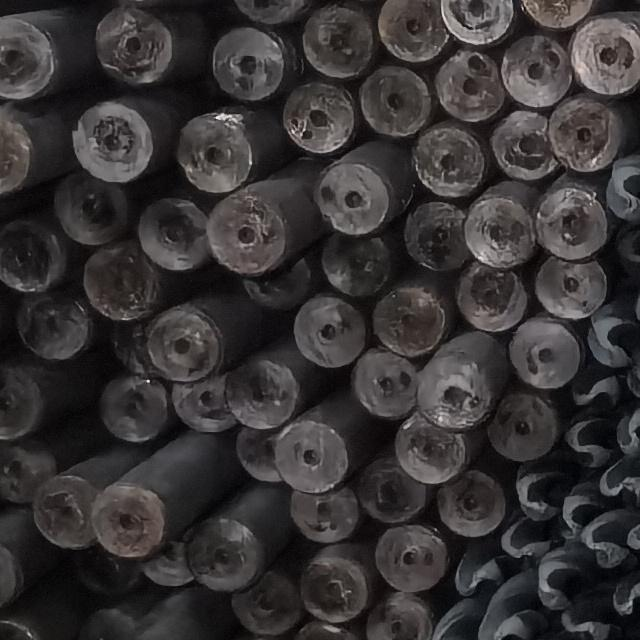tool: (313, 141, 415, 238), (175, 102, 284, 190), (416, 328, 510, 422), (207, 185, 292, 279), (547, 94, 637, 176), (73, 101, 154, 180), (84, 240, 163, 320), (465, 180, 537, 266), (533, 176, 606, 260), (94, 11, 171, 89), (301, 2, 377, 80), (476, 391, 558, 462), (0, 206, 66, 294), (571, 10, 640, 94), (372, 282, 448, 358), (415, 119, 489, 195), (435, 456, 507, 534), (393, 409, 468, 483), (284, 79, 360, 152), (58, 169, 133, 242), (137, 195, 210, 269), (294, 295, 367, 368), (454, 258, 527, 330), (358, 67, 432, 138), (510, 314, 582, 386), (0, 14, 57, 104), (356, 452, 427, 524), (20, 290, 88, 365), (232, 569, 304, 639), (433, 46, 502, 118), (213, 31, 282, 102), (500, 34, 568, 106), (189, 517, 261, 585), (34, 472, 98, 548), (349, 345, 417, 416), (322, 228, 389, 300), (377, 526, 448, 592), (490, 109, 555, 180), (401, 198, 465, 270), (104, 378, 171, 446), (282, 428, 353, 490), (287, 484, 358, 544), (153, 314, 217, 380), (228, 363, 294, 425), (539, 257, 609, 315), (173, 372, 238, 434), (378, 0, 444, 61), (302, 556, 366, 618), (98, 490, 160, 552), (0, 436, 56, 500), (235, 423, 295, 481), (359, 592, 429, 640), (0, 366, 44, 441), (246, 254, 306, 308), (445, 0, 515, 45), (109, 321, 163, 374), (0, 111, 35, 190), (138, 540, 192, 588), (220, 0, 336, 22), (0, 507, 24, 611), (520, 0, 604, 28), (79, 605, 133, 640)
tool_b: (481, 573, 553, 640), (535, 542, 595, 610), (518, 457, 574, 521), (583, 511, 640, 572), (558, 409, 618, 466), (453, 536, 509, 596), (583, 310, 638, 369), (560, 590, 624, 635), (567, 361, 618, 406), (606, 153, 640, 220), (600, 454, 640, 508), (615, 217, 640, 282), (616, 401, 640, 456), (612, 572, 640, 618), (627, 512, 640, 563)
